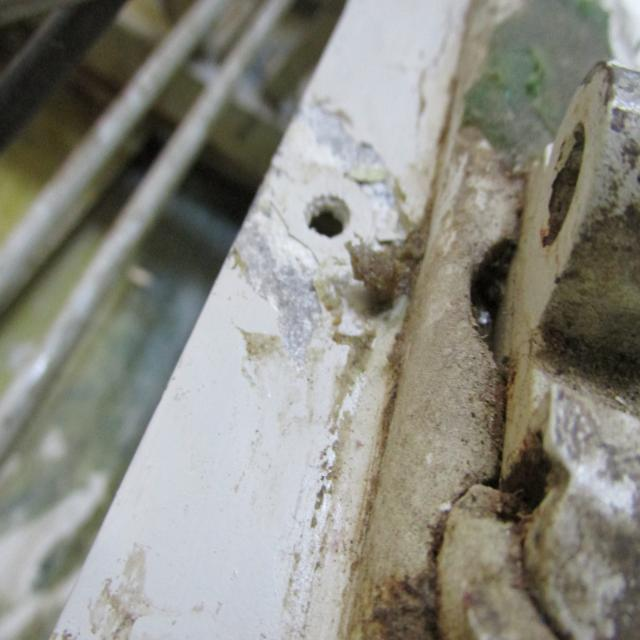Missing Fastener: (292, 178, 356, 242)
